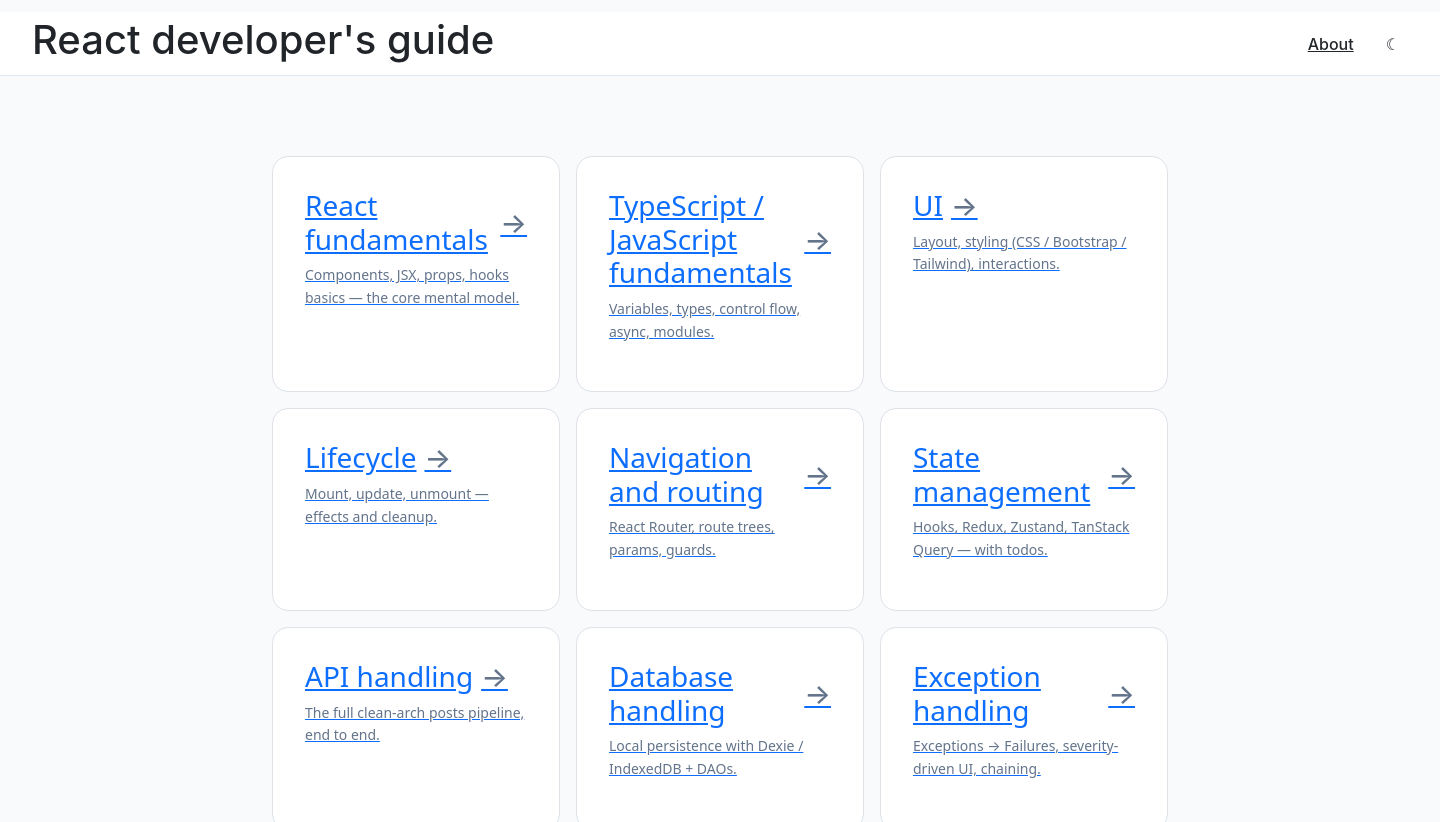
Test: lazy navigation loading UX › shows the progress bar while a lazy route chunk loads, then hides it on commit
The image size is (1440, 822).
Expected: the heading "React fundamentals →" is shown, [305,189,527,256]
Click the link "About".
click(1331, 44)  # box [1308,34,1354,54]
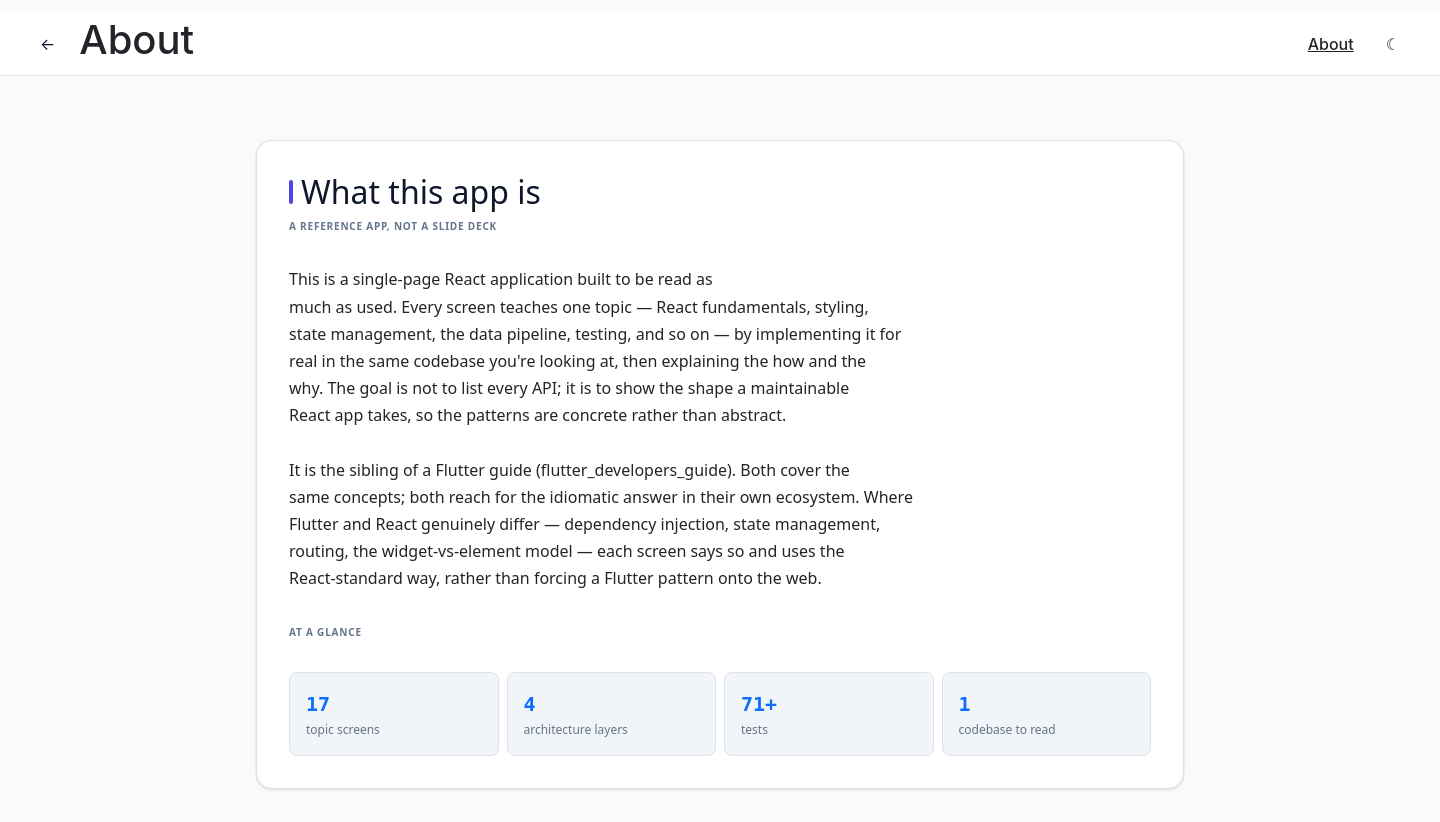
Expected: the heading "What this app is" is shown, [289,170,541,213]
